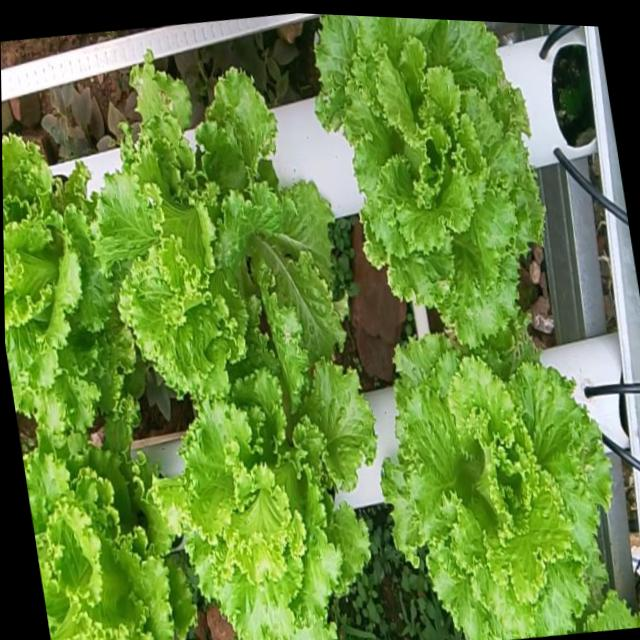Mature: (82, 57, 335, 396), (369, 333, 631, 640), (305, 14, 533, 348), (151, 340, 365, 640), (2, 126, 121, 424), (20, 424, 182, 640)
